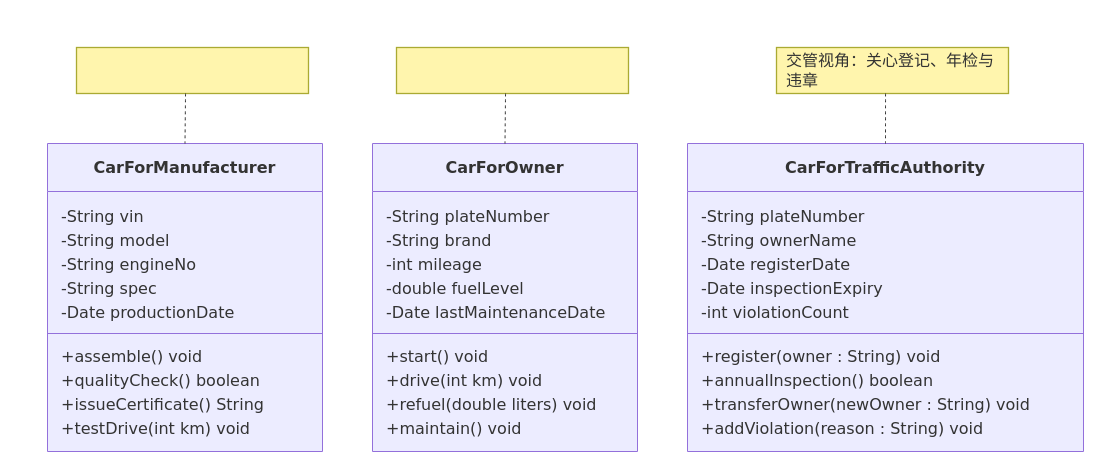
Some shapes in this 1101 by 469 pixel diagram are drawn without their labels. Here are the shapes that lost their labels. From the top down, the centre of each, then its label:
At (192,70): "厂家视角：关心生产与出厂质量".
At (512,70): "车主视角：关心使用、油耗与保养".
